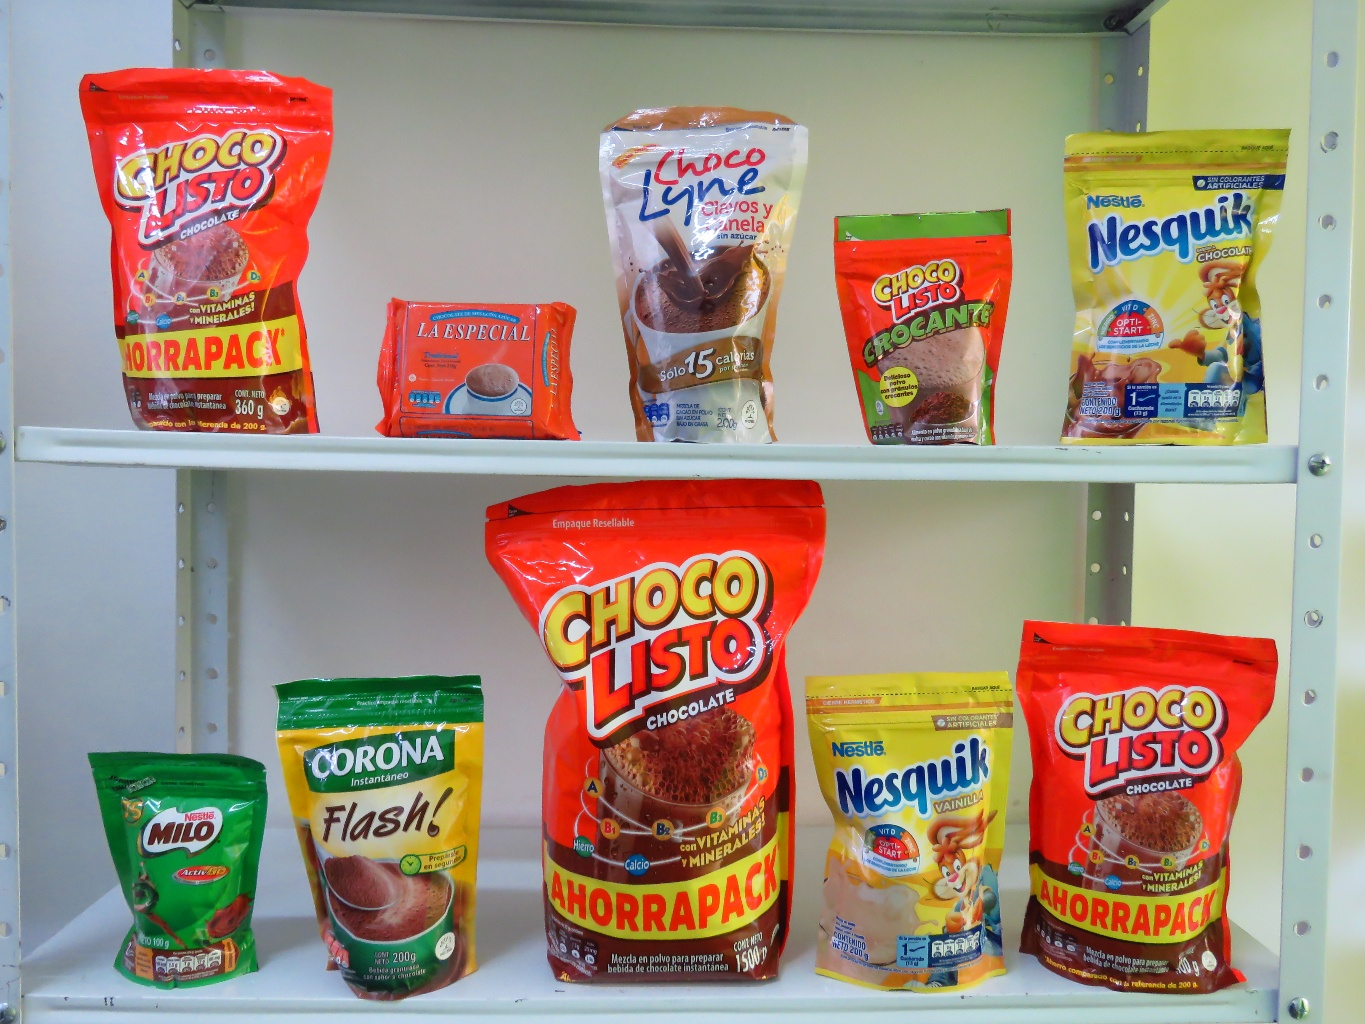COL0170102DYP10000: (825, 207, 1032, 452)
COL0170103DYP1,500: (472, 468, 816, 998)
COL0170103DYP36000: (72, 55, 336, 435)
COL0170103DYP40000: (1010, 615, 1292, 1007)
COL0170203DYP10000: (84, 744, 279, 986)
COL0170303DYP20000: (1063, 120, 1309, 451)
COL0170306DYP20000: (798, 657, 1033, 1001)
